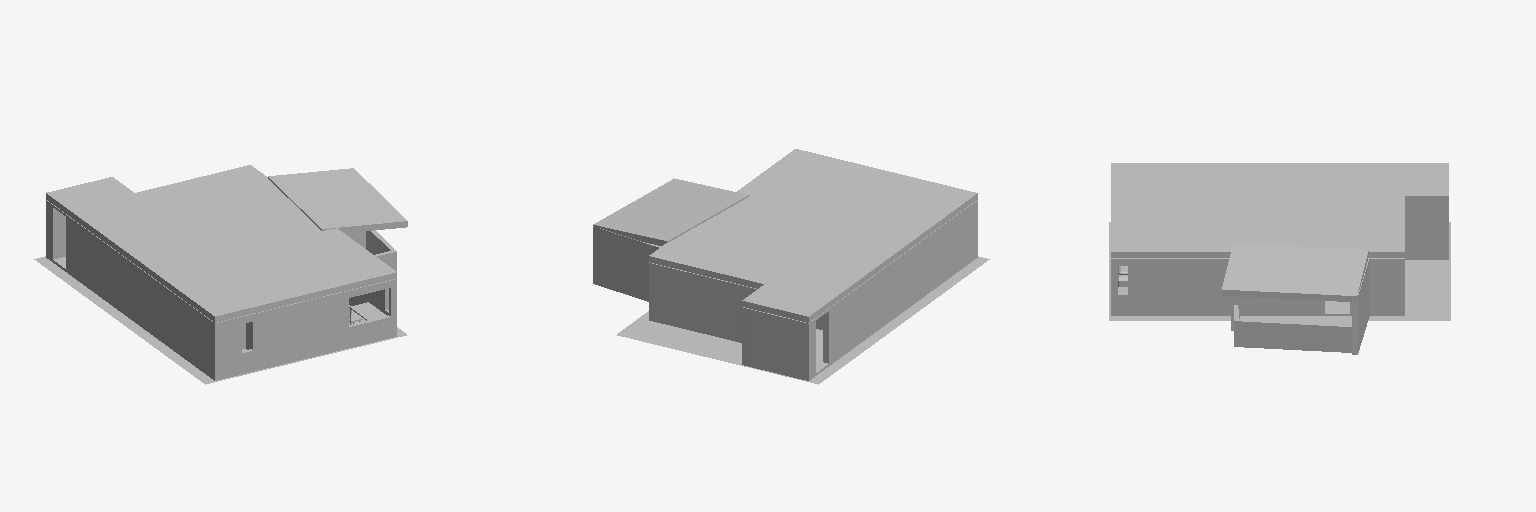
The model's file is OttoBrandt_2019-01-11_2.obj.
The picture shows the model from 3 angles: view 1: azimuth 30°, elevation 25°; view 2: azimuth 150°, elevation 25°; view 3: azimuth 270°, elevation 25°; orthographic projection.
Parts seen in each view (by area): view 1: roof_Cube.002, wall_outer_Cube, Plane; view 2: roof_Cube.002, wall_outer_Cube, Plane; view 3: roof_Cube.002, wall_outer_Cube, Plane.
Part boxes in pixels (bbox=[...]): roof_Cube.002: bbox=[46, 165, 407, 322]; wall_outer_Cube: bbox=[46, 200, 396, 380]; Plane: bbox=[34, 256, 406, 384]; roof_Cube.002: bbox=[593, 149, 977, 322]; wall_outer_Cube: bbox=[593, 200, 977, 380]; Plane: bbox=[617, 256, 989, 384]; roof_Cube.002: bbox=[1111, 163, 1448, 301]; wall_outer_Cube: bbox=[1111, 202, 1448, 354]; Plane: bbox=[1109, 222, 1450, 324].
Size of the model in its own units: 9.92 by 2.32 by 10.78.